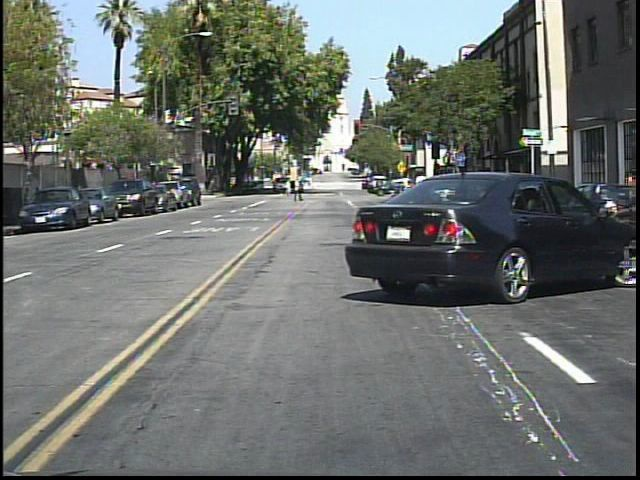person: (406, 160, 439, 243), (525, 169, 544, 226), (619, 165, 637, 221), (398, 170, 419, 208), (291, 174, 308, 205)
